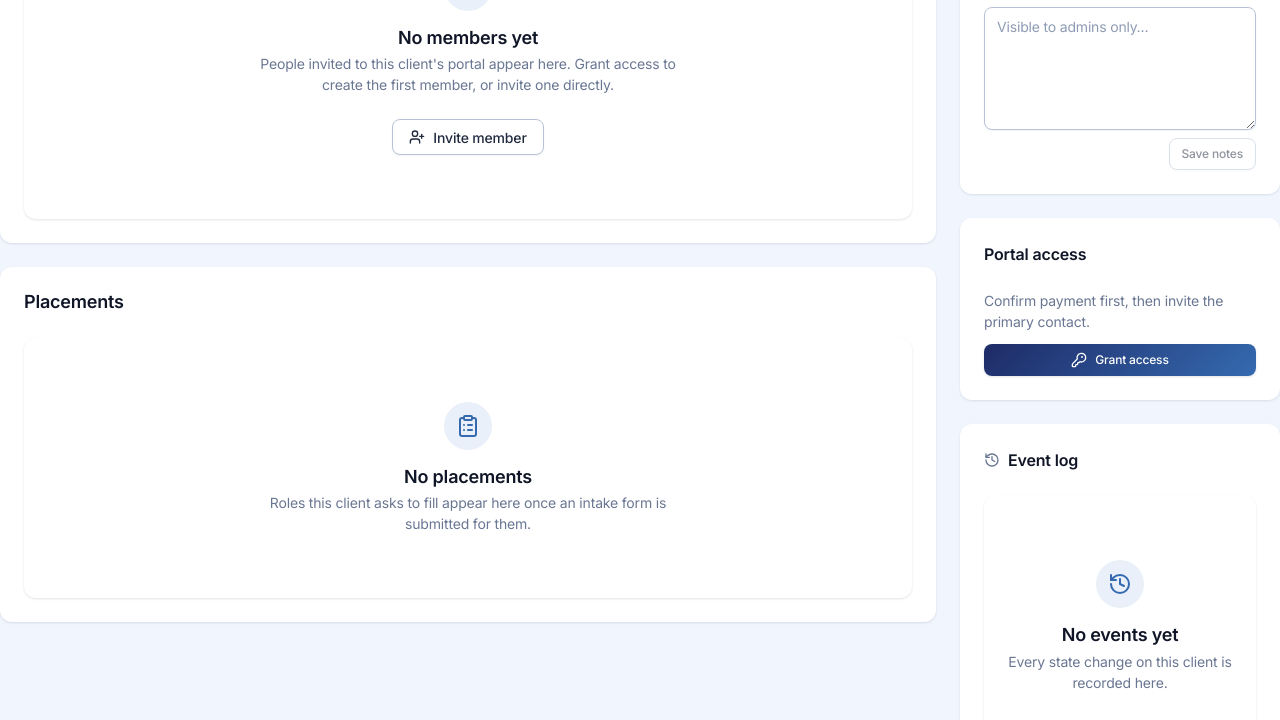
Test case: grant access › disables the submit with an explanation while payment is unconfirmed
(page scrolled)
Click the button "Grant access". click: [1120, 360]
box: [984,344,1256,376]
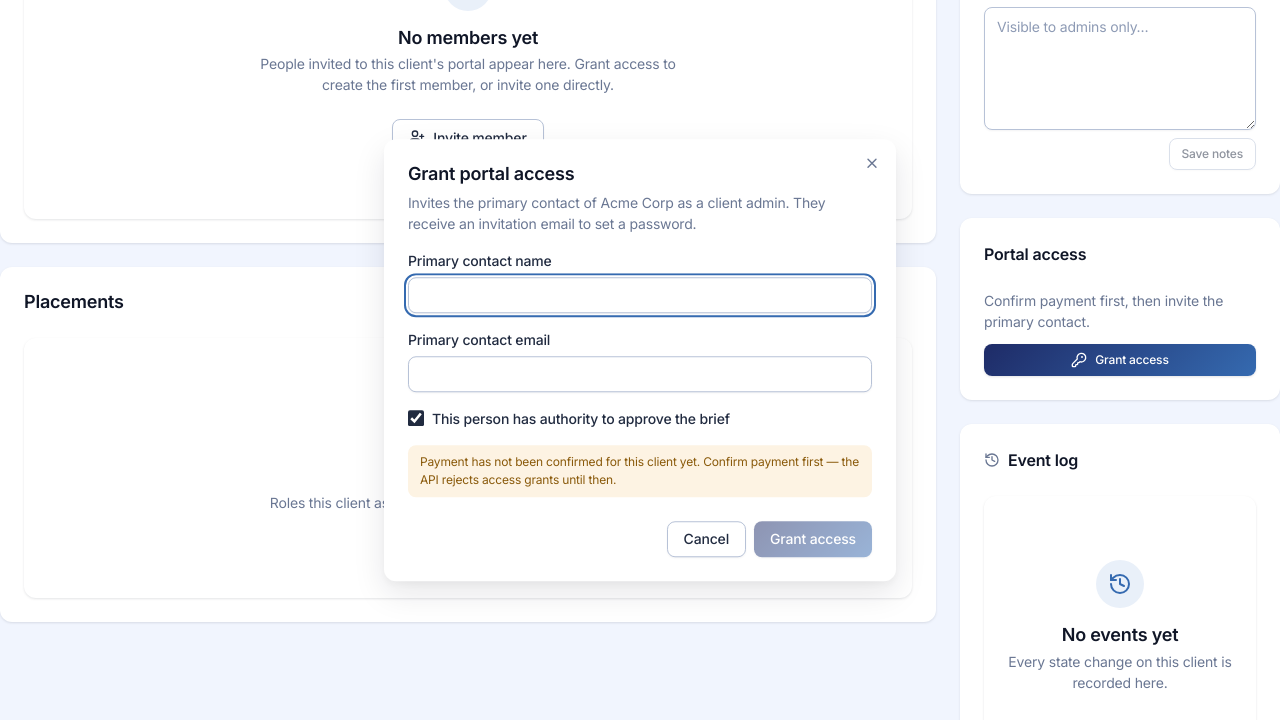
expect the button "Grant access" is disabled: met, box [754,521,872,557]
expect the text "Payment has not been confirmed" is shown: met, box [420,454,859,487]
